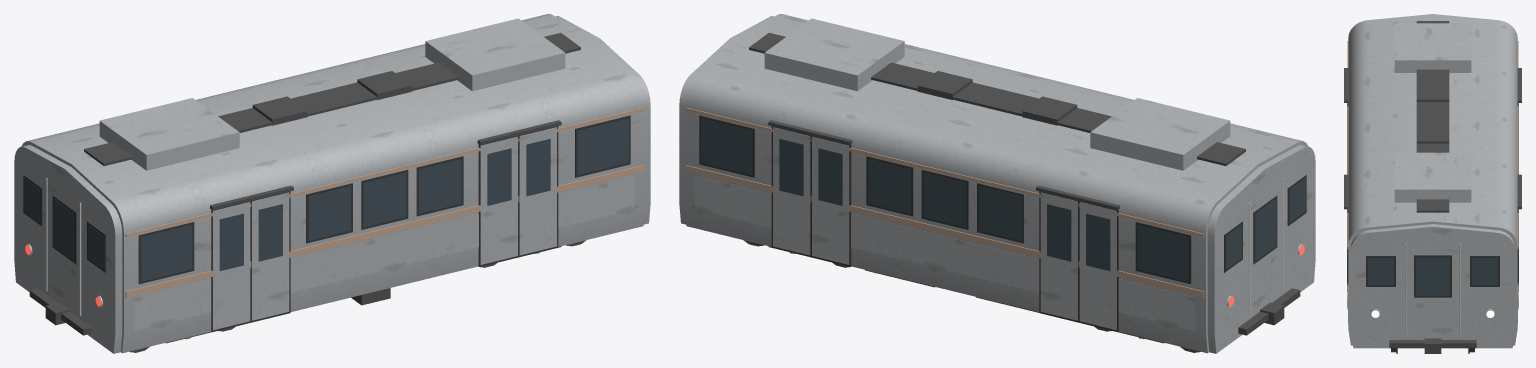
Rendered from train-car.glb.
The picture shows the model from 3 angles, left to right: view 1: azimuth 30°, elevation 25°; view 2: azimuth 150°, elevation 25°; view 3: azimuth 270°, elevation 25°; orthographic projection. The views are drawn at different scales.
Parts seen in each view (by area): view 1: train_car; view 2: train_car; view 3: train_car.
Part boxes in pixels (<box>): train_car: <box>14,14,650,353</box>; train_car: <box>679,14,1315,353</box>; train_car: <box>1344,14,1521,353</box>.
Bounding box in the file's own units: 9.69 × 3.2 × 3.25.
Materials: 9 (2 with a texture image).
